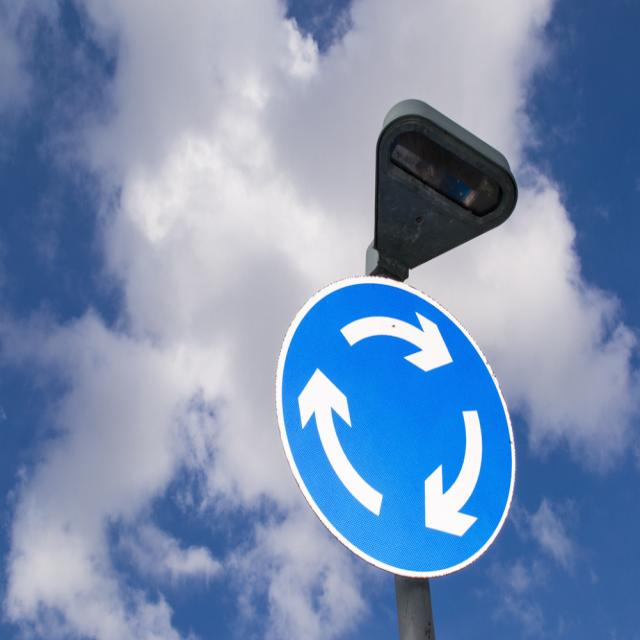roundabout: (269, 261, 518, 585)
